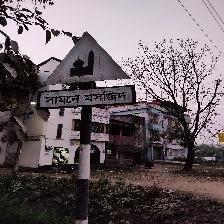Mosque in front: (39, 32, 135, 110)
